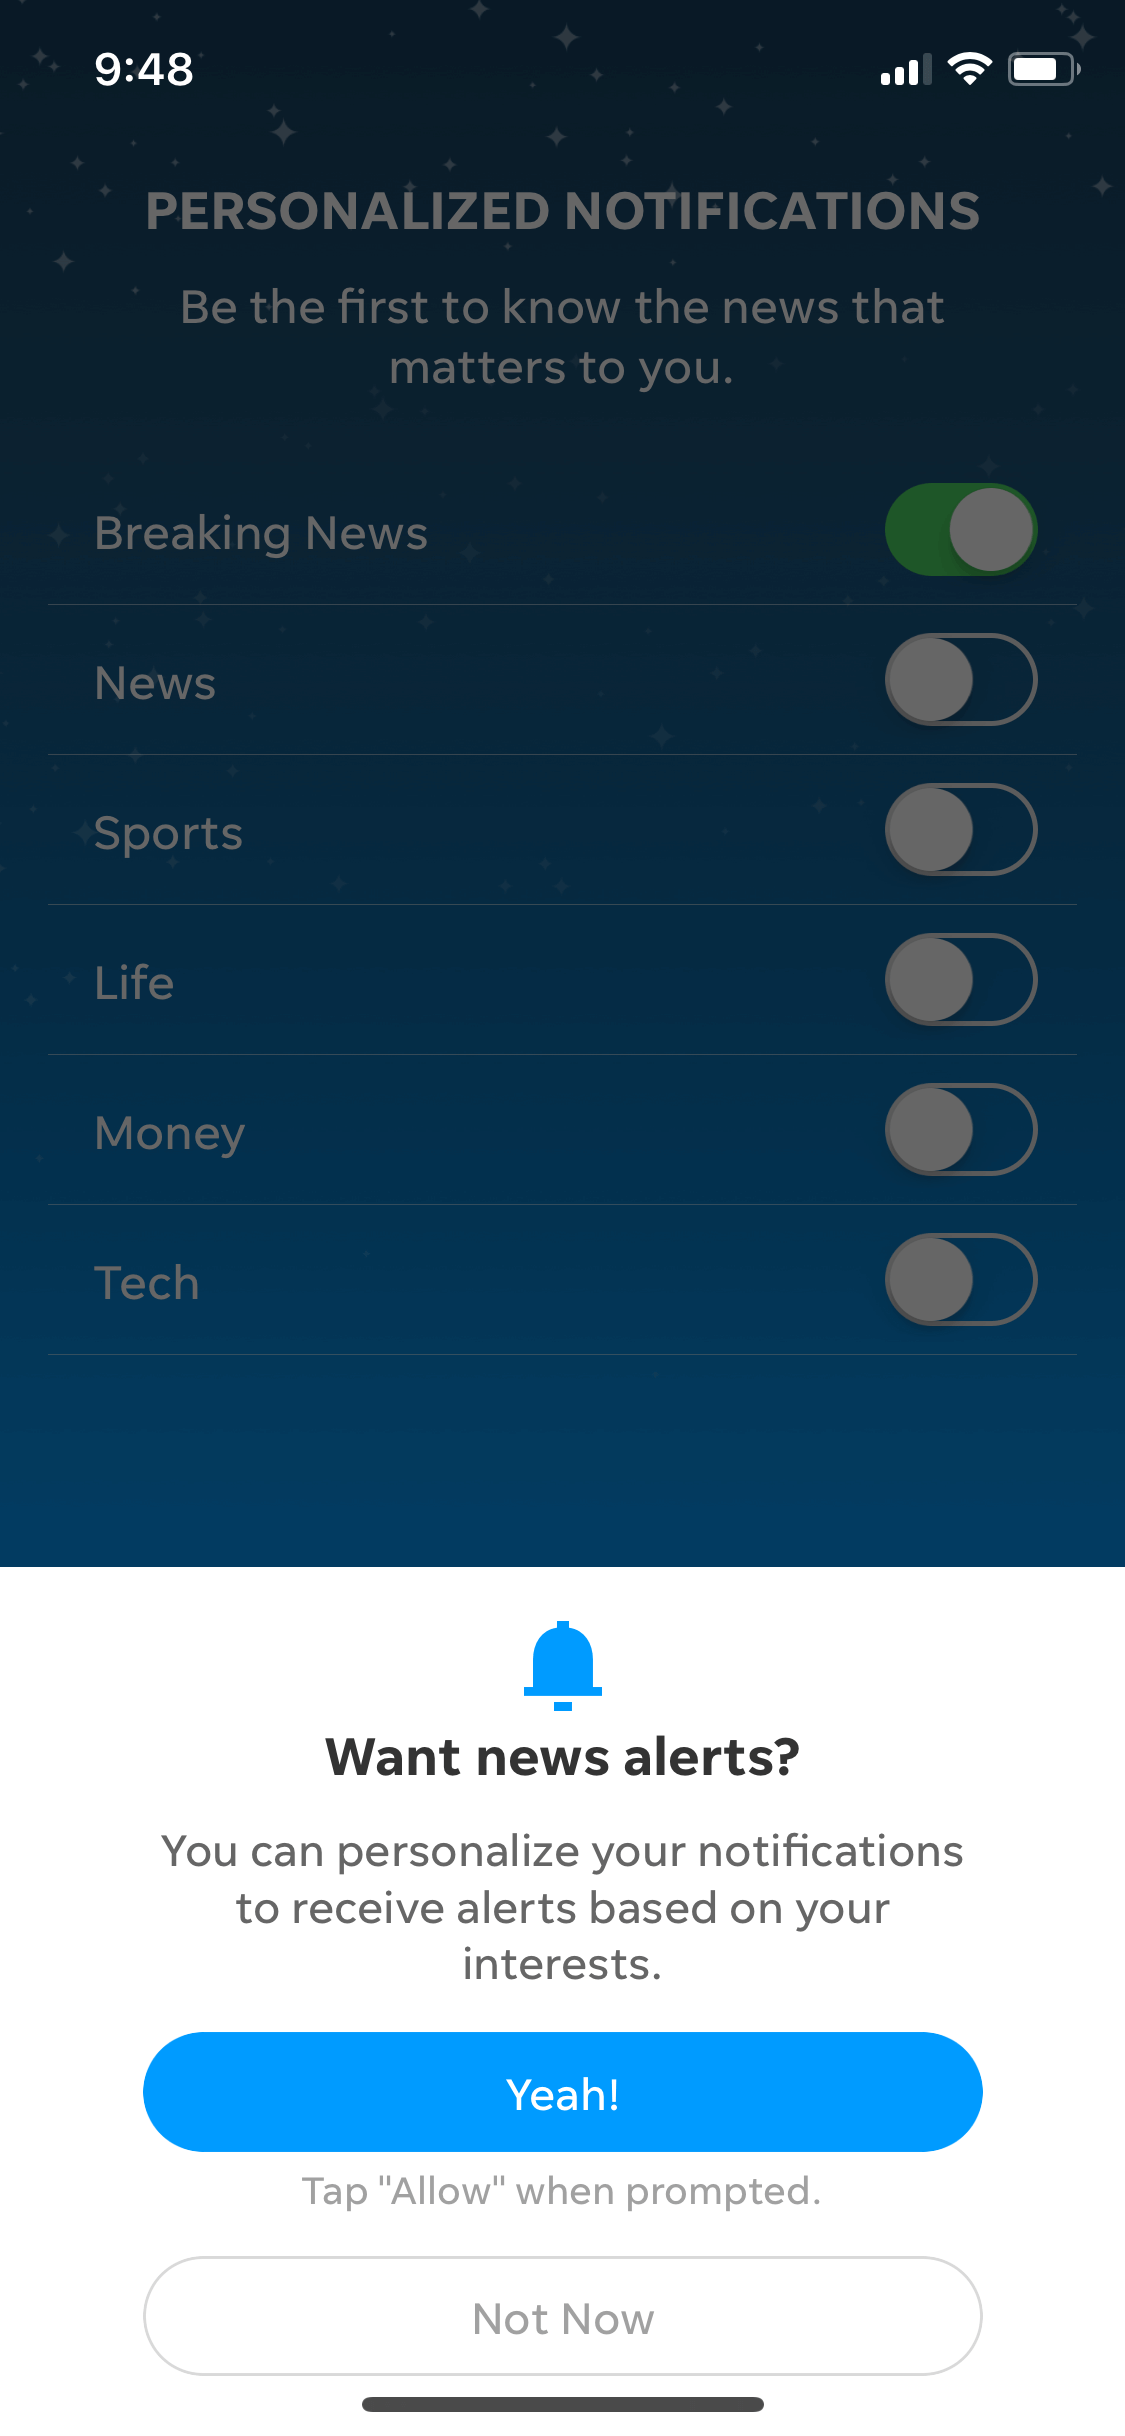Buttons: (137, 2012, 994, 2170), (129, 2237, 987, 2388)
Switches: (859, 615, 1047, 741), (869, 767, 1050, 889), (873, 471, 1049, 590), (870, 1066, 1046, 1184), (869, 923, 1052, 1035), (876, 1218, 1047, 1333)
